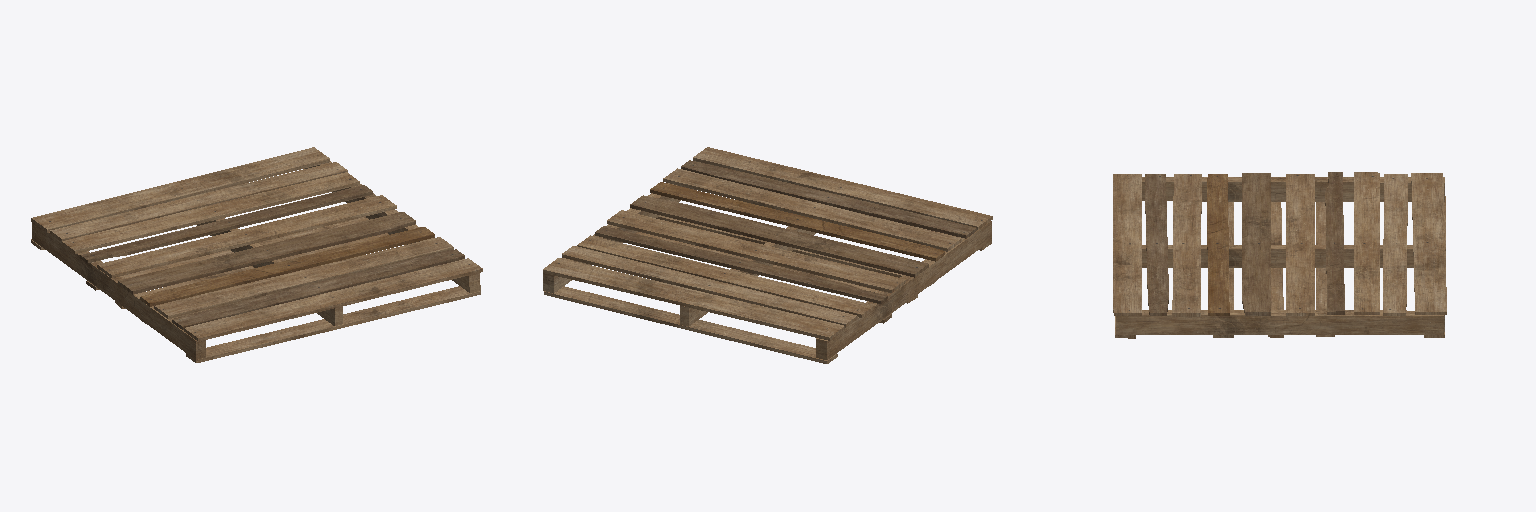
3 views of the same model, side by side, from view 1: azimuth 30°, elevation 25°; view 2: azimuth 150°, elevation 25°; view 3: azimuth 270°, elevation 25° (orthographic).
Visible parts, largest first — view 1: pallet_top_low_Plane.013, pallet_base_low_Plane, pallet_mid_low_Plane.012; view 2: pallet_top_low_Plane.013, pallet_base_low_Plane, pallet_mid_low_Plane.012; view 3: pallet_top_low_Plane.013, pallet_mid_low_Plane.012, pallet_base_low_Plane.
Part boxes in pixels (bbox=[...]): pallet_top_low_Plane.013: bbox=[31, 147, 482, 341]; pallet_base_low_Plane: bbox=[31, 217, 480, 362]; pallet_mid_low_Plane.012: bbox=[32, 161, 480, 359]; pallet_top_low_Plane.013: bbox=[543, 147, 992, 340]; pallet_base_low_Plane: bbox=[544, 215, 991, 363]; pallet_mid_low_Plane.012: bbox=[543, 183, 991, 359]; pallet_top_low_Plane.013: bbox=[1113, 172, 1446, 316]; pallet_mid_low_Plane.012: bbox=[1116, 177, 1445, 334]; pallet_base_low_Plane: bbox=[1115, 196, 1445, 338].
Size of the model in its own units: 1.82 by 0.158 by 1.82.
Materials: 3 (1 with a texture image).